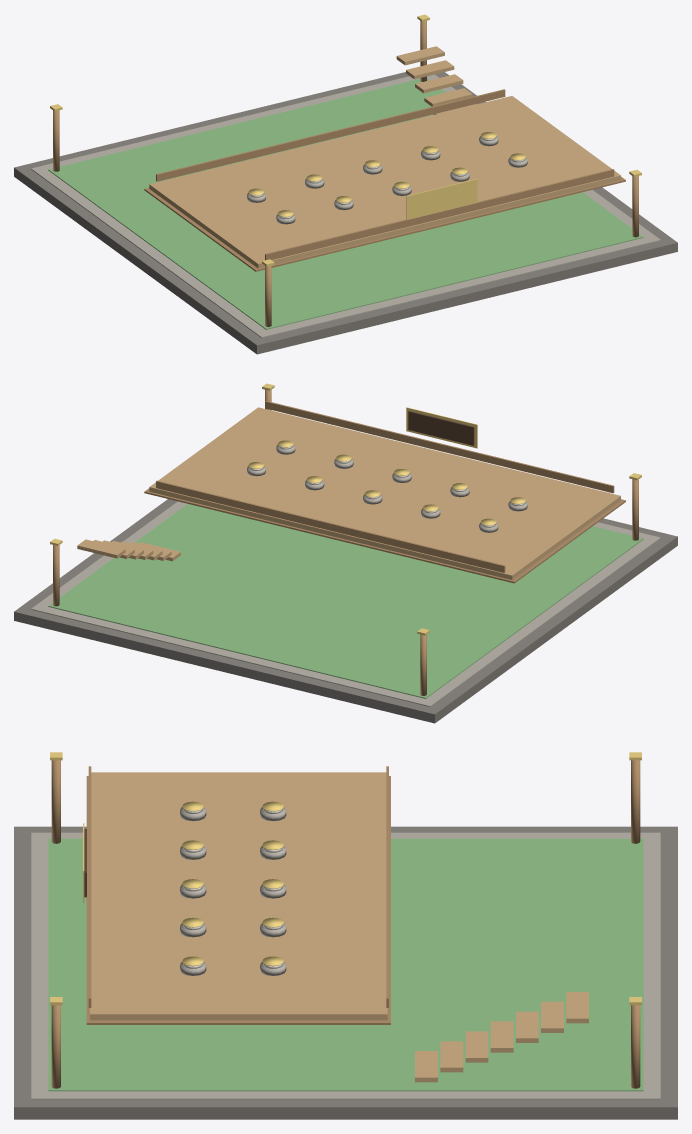
The model's file is PlayerPlot.glb.
3 renders of one model, top to bottom at view 1: azimuth 30°, elevation 25°; view 2: azimuth 150°, elevation 25°; view 3: azimuth 270°, elevation 25°, orthographic. The views are drawn at different scales.
Visible parts, largest first — view 1: Lawn, Deck, Foundation, Curb, RailBack, RailFront, DeckTrim, OwnerFrame, Step.005, Step.006, Step.007; view 2: Lawn, Deck, Foundation, Curb, RailBack, RailFront, DeckTrim, OwnerSign, OwnerFrame, Step.007; view 3: Lawn, Deck, Foundation, Curb, DeckTrim, RailFront, Post, Post.001, Post.002, Post.003, Step.003, Step.004 (+6 smaller).
Part boxes in pixels (box(x1,y1,x2,y2)): Lawn: box(48, 78, 643, 329); Deck: box(149, 96, 620, 268); Foundation: box(14, 72, 677, 354); Curb: box(31, 74, 660, 337); RailBack: box(156, 89, 505, 181); RailFront: box(265, 169, 614, 260); DeckTrim: box(144, 176, 625, 271); OwnerFrame: box(406, 179, 477, 219); Step.005: box(415, 74, 463, 93); Step.006: box(406, 60, 454, 79); Step.007: box(396, 46, 444, 65); Lawn: box(48, 504, 643, 698); Deck: box(149, 407, 620, 579); Foundation: box(14, 499, 677, 723); Curb: box(31, 501, 660, 706); RailBack: box(156, 480, 505, 572); RailFront: box(265, 401, 614, 493); DeckTrim: box(144, 488, 625, 583); OwnerSign: box(408, 411, 474, 445); OwnerFrame: box(406, 407, 477, 448); Step.007: box(77, 539, 125, 558); Lawn: box(48, 838, 643, 1091); Deck: box(90, 772, 387, 1020); Foundation: box(14, 826, 677, 1119); Curb: box(31, 832, 660, 1099); DeckTrim: box(86, 776, 390, 1024); RailFront: box(88, 766, 91, 1007); Post: box(51, 760, 60, 843); Post.001: box(631, 760, 640, 843); Post.002: box(51, 1005, 60, 1088); Post.003: box(631, 1005, 640, 1088); Step.003: box(465, 1031, 488, 1062); Step.004: box(490, 1021, 513, 1052).
Bounding box in the file's own units: 58 × 12.75 × 58.
